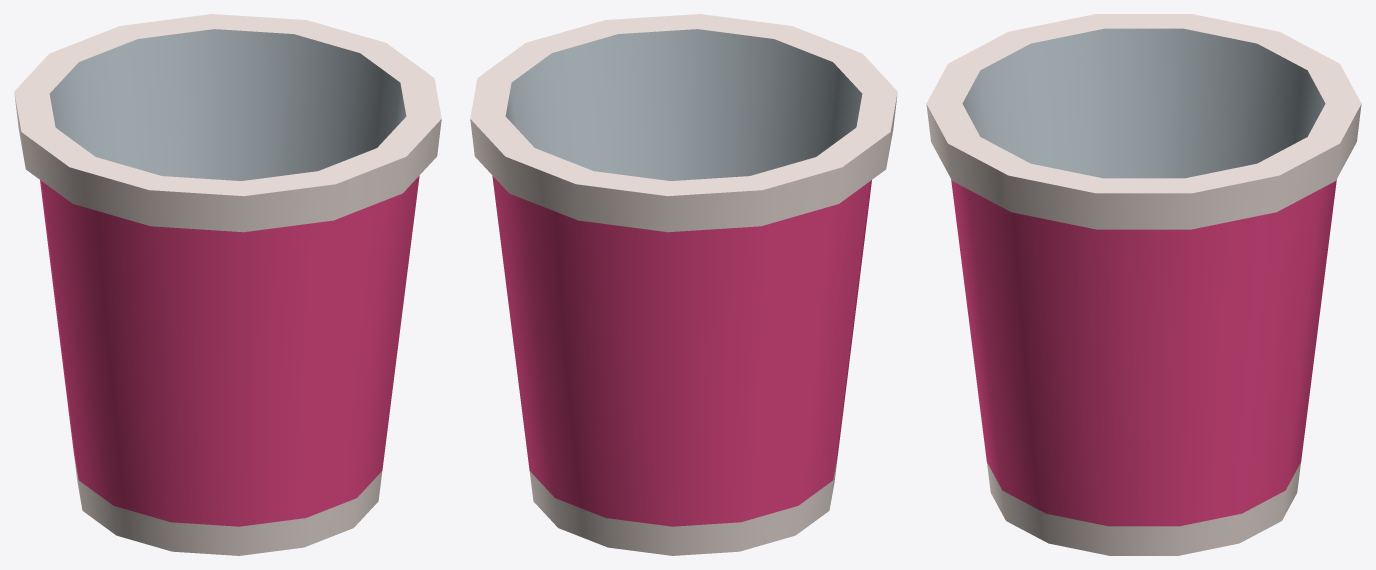
Rendered from Cup_geo.fbx.
3 renders of one model, left to right at view 1: azimuth 30°, elevation 25°; view 2: azimuth 150°, elevation 25°; view 3: azimuth 270°, elevation 25°, orthographic.
Parts seen in each view (by area): view 1: Cup_geo; view 2: Cup_geo; view 3: Cup_geo.
Part boxes in pixels (left/top/right/bottom): Cup_geo: left=14, top=14, right=441, bottom=555; Cup_geo: left=470, top=14, right=897, bottom=555; Cup_geo: left=926, top=14, right=1361, bottom=555.
Size of the model in its own units: 0.4294 by 0.4405 by 0.4347.
